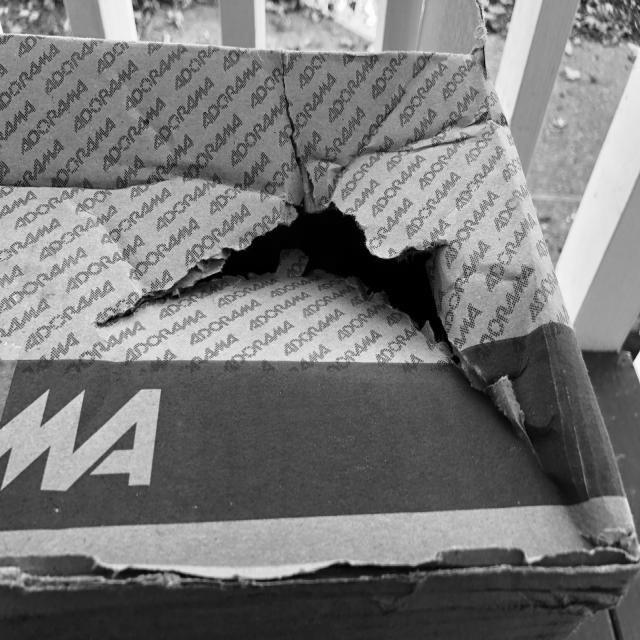hole: (169, 196, 471, 362)
